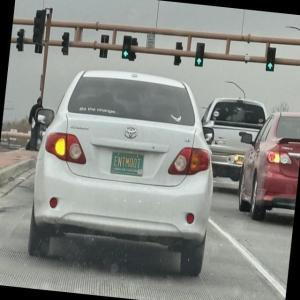Plate: (110, 152, 144, 177)
